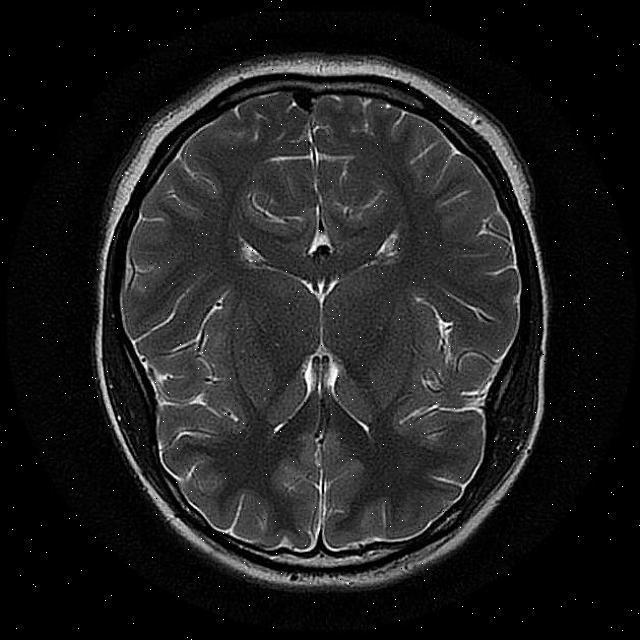No_Tumor: (96, 53, 547, 586)
